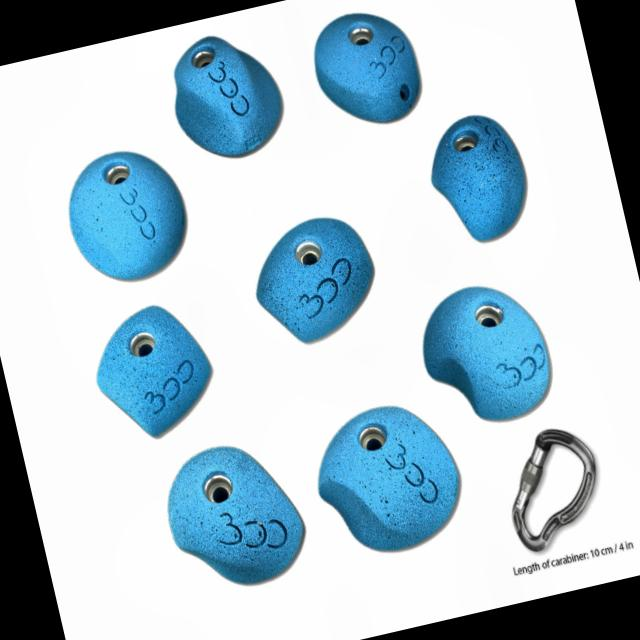Hold: (298, 390, 474, 570), (156, 435, 322, 601), (411, 271, 558, 435), (75, 294, 227, 448), (58, 144, 199, 294), (242, 204, 386, 350), (156, 23, 290, 166), (422, 98, 540, 249), (304, 0, 431, 136)
